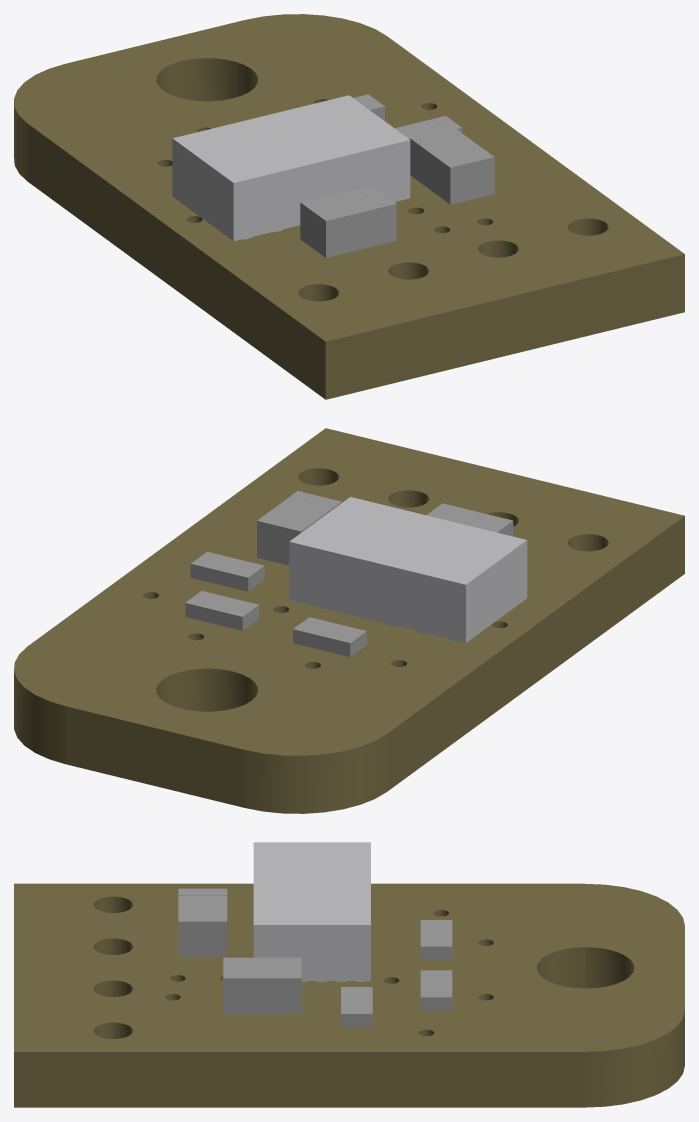
Rendered from ada-4739.glb.
3 renders of one model, top to bottom at view 1: azimuth 30°, elevation 25°; view 2: azimuth 150°, elevation 25°; view 3: azimuth 270°, elevation 25°, orthographic. The views are drawn at different scales.
Parts seen in each view (by area): view 1: 0.16666666666666666_0.16666666666666666_0.08333333333333333_, 0.5833333333333334_0.5833333333333334_0.5833333333333334_0.8, 0.3333333333333333_0.3333333333333333_0.3333333333333333_0; view 2: 0.16666666666666666_0.16666666666666666_0.08333333333333333_, 0.5833333333333334_0.5833333333333334_0.5833333333333334_0.8, 0.3333333333333333_0.3333333333333333_0.3333333333333333_0; view 3: 0.16666666666666666_0.16666666666666666_0.08333333333333333_, 0.5833333333333334_0.5833333333333334_0.5833333333333334_0.8, 0.3333333333333333_0.3333333333333333_0.3333333333333333_0.
Part boxes in pixels (bbox=[...]): 0.16666666666666666_0.16666666666666666_0.08333333333333333_: bbox=[14, 14, 684, 399]; 0.5833333333333334_0.5833333333333334_0.5833333333333334_0.8: bbox=[172, 95, 410, 241]; 0.3333333333333333_0.3333333333333333_0.3333333333333333_0: bbox=[300, 94, 494, 257]; 0.16666666666666666_0.16666666666666666_0.08333333333333333_: bbox=[14, 428, 684, 813]; 0.5833333333333334_0.5833333333333334_0.5833333333333334_0.8: bbox=[289, 497, 527, 642]; 0.3333333333333333_0.3333333333333333_0.3333333333333333_0: bbox=[185, 491, 513, 657]; 0.16666666666666666_0.16666666666666666_0.08333333333333333_: bbox=[14, 883, 684, 1107]; 0.5833333333333334_0.5833333333333334_0.5833333333333334_0.8: bbox=[253, 842, 370, 981]; 0.3333333333333333_0.3333333333333333_0.3333333333333333_0: bbox=[178, 888, 452, 1027].
Bounding box in the file's own units: 1.02 × 0.317 × 1.71.
